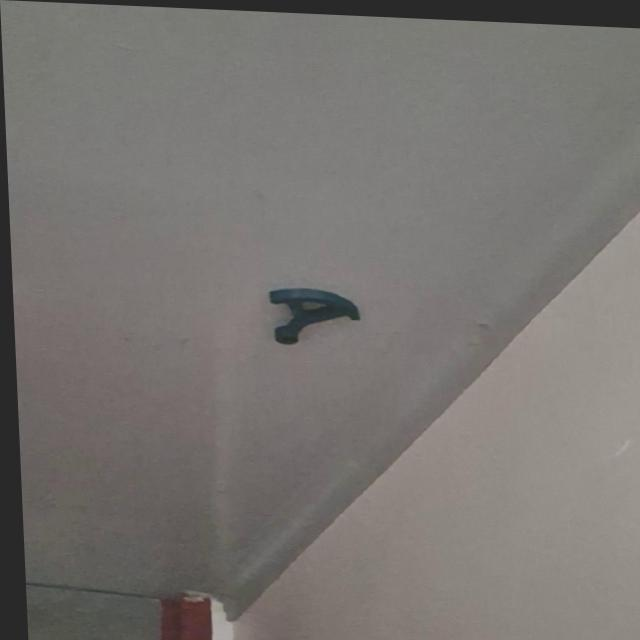haptic: (267, 285, 363, 349)
